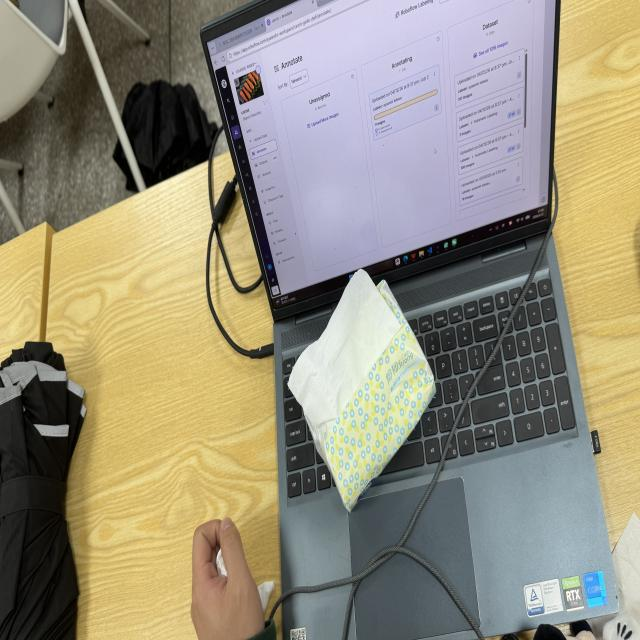tissue: (289, 271, 434, 510), (289, 271, 398, 461), (613, 513, 639, 620), (603, 615, 639, 639), (258, 581, 274, 613), (216, 549, 227, 577)
